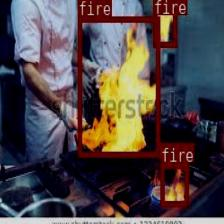fire: (77, 16, 159, 156), (160, 162, 188, 205), (153, 0, 176, 46)
